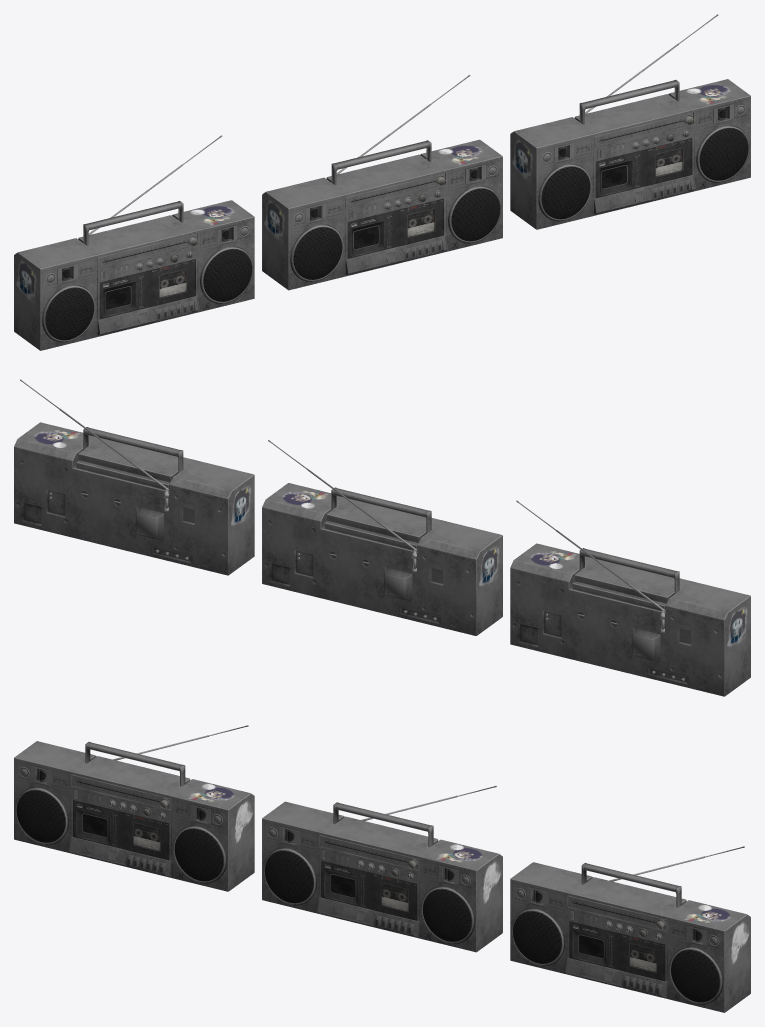
File: stock_boomboxes_row.glb
3 renders of one model, top to bottom at view 1: azimuth 30°, elevation 25°; view 2: azimuth 150°, elevation 25°; view 3: azimuth 330°, elevation 25°, orthographic.
Visible parts, largest first — view 1: boombox.001, boombox.002, boombox; view 2: boombox, boombox.002, boombox.001; view 3: boombox.001, boombox, boombox.002.
Boxes of the visible parts, x1=… form: boombox.001: x1=262, y1=74, x2=502, y2=290; boombox.002: x1=510, y1=14, x2=750, y2=229; boombox: x1=14, y1=135, x2=254, y2=350; boombox: x1=510, y1=500, x2=750, y2=696; boombox.002: x1=14, y1=379, x2=254, y2=575; boombox.001: x1=262, y1=440, x2=502, y2=635; boombox.001: x1=262, y1=785, x2=502, y2=952; boombox: x1=14, y1=725, x2=254, y2=891; boombox.002: x1=510, y1=846, x2=750, y2=1012.
Size of the model in its own units: 1.49 by 0.2923 by 0.1159.
6 materials, 6 textured.
